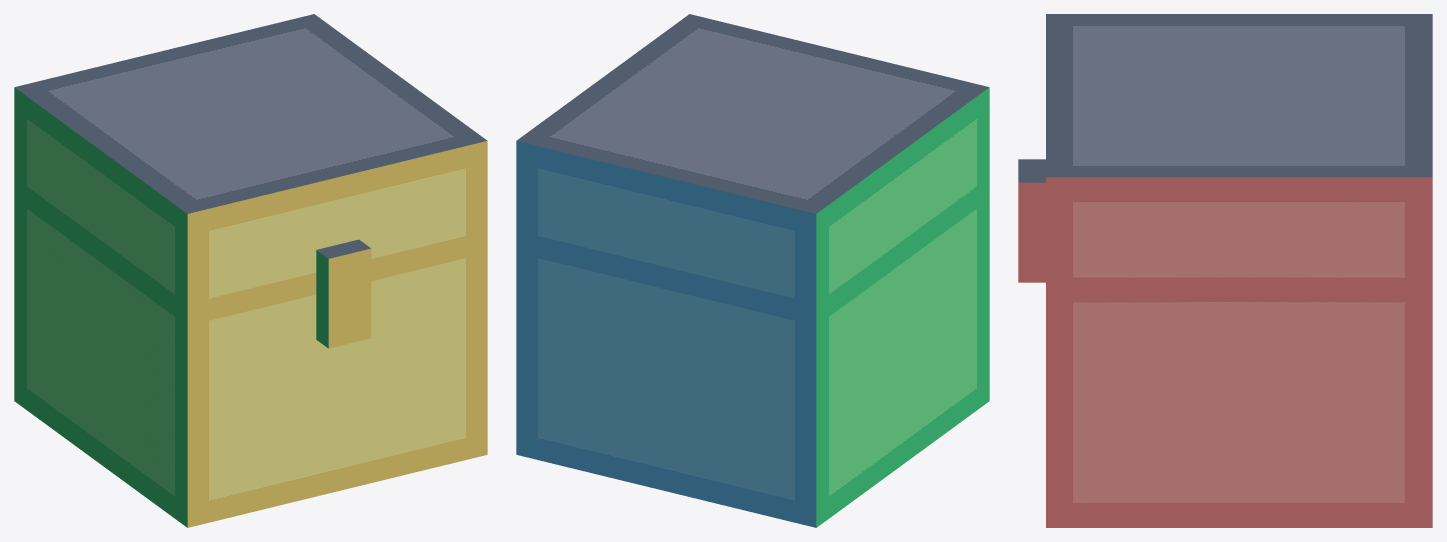
The model's file is chest.gltf.
The picture shows the model from 3 angles, left to right: view 1: azimuth 30°, elevation 25°; view 2: azimuth 150°, elevation 25°; view 3: azimuth 270°, elevation 25°; orthographic projection. The views are drawn at different scales.
Parts seen in each view (by area): view 1: cube (×3); view 2: cube (×2); view 3: cube (×3).
Boxes of the visible parts, <box> form: cube (×3): <box>14,14,487,527</box>; cube (×2): <box>516,14,989,527</box>; cube (×3): <box>1018,14,1432,527</box>.
Size of the model in its own units: 0.875 by 0.875 by 0.9375.
Materials: 1 (1 with a texture image).
